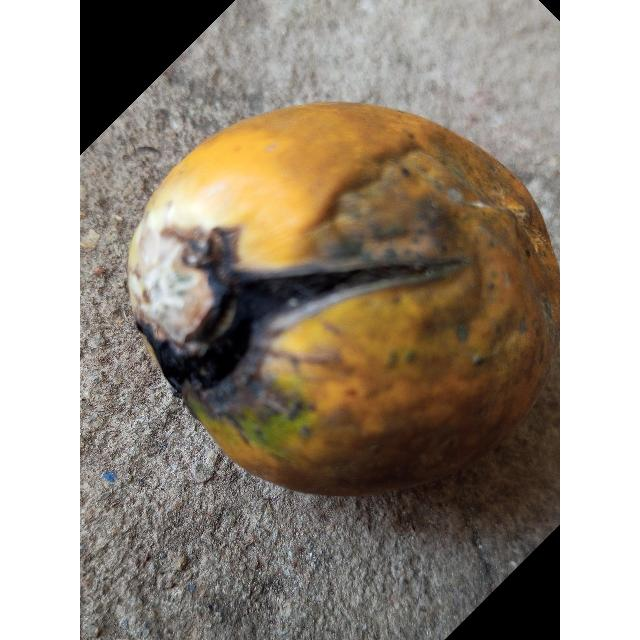damaged: (128, 103, 559, 495)
